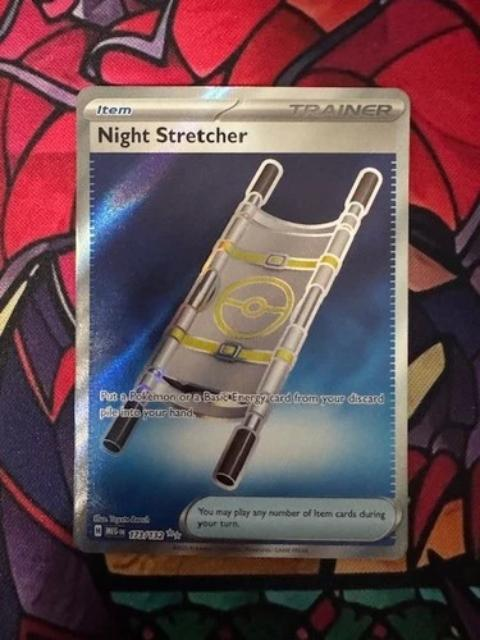Card: (67, 82, 412, 561)
Name: (90, 119, 252, 148)
